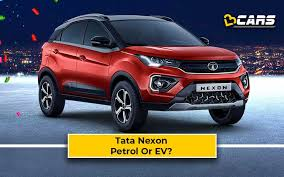Tata Nexon: (36, 10, 251, 135)
